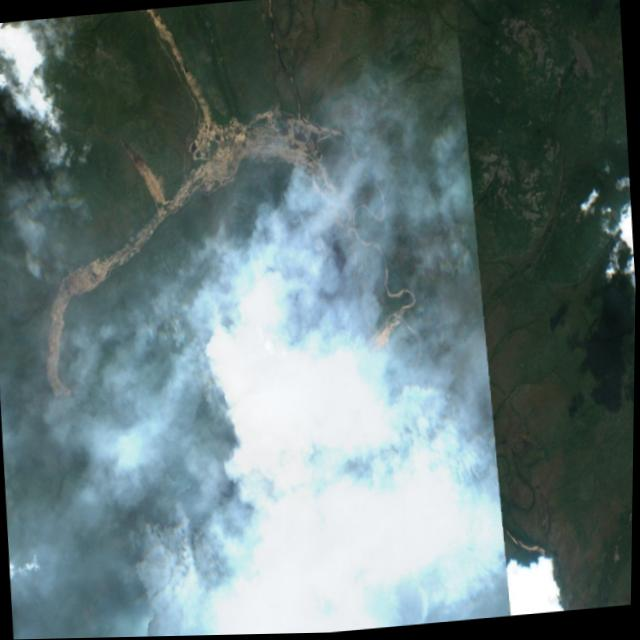fire: (202, 183, 379, 401)
